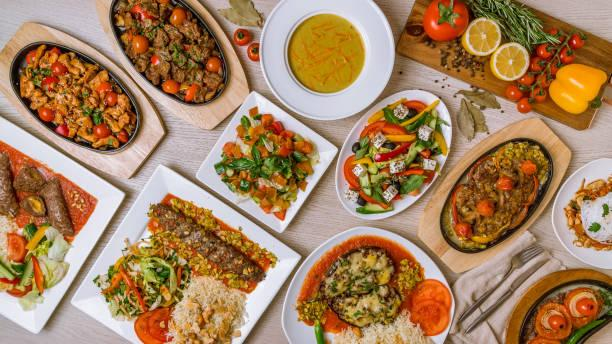Braised Crucian Carp: (398, 0, 609, 134), (1, 15, 166, 173), (99, 197, 278, 340), (2, 129, 123, 334), (420, 116, 572, 276), (95, 1, 250, 132), (195, 92, 335, 234), (282, 226, 451, 343), (259, 0, 392, 122), (336, 90, 450, 220)
